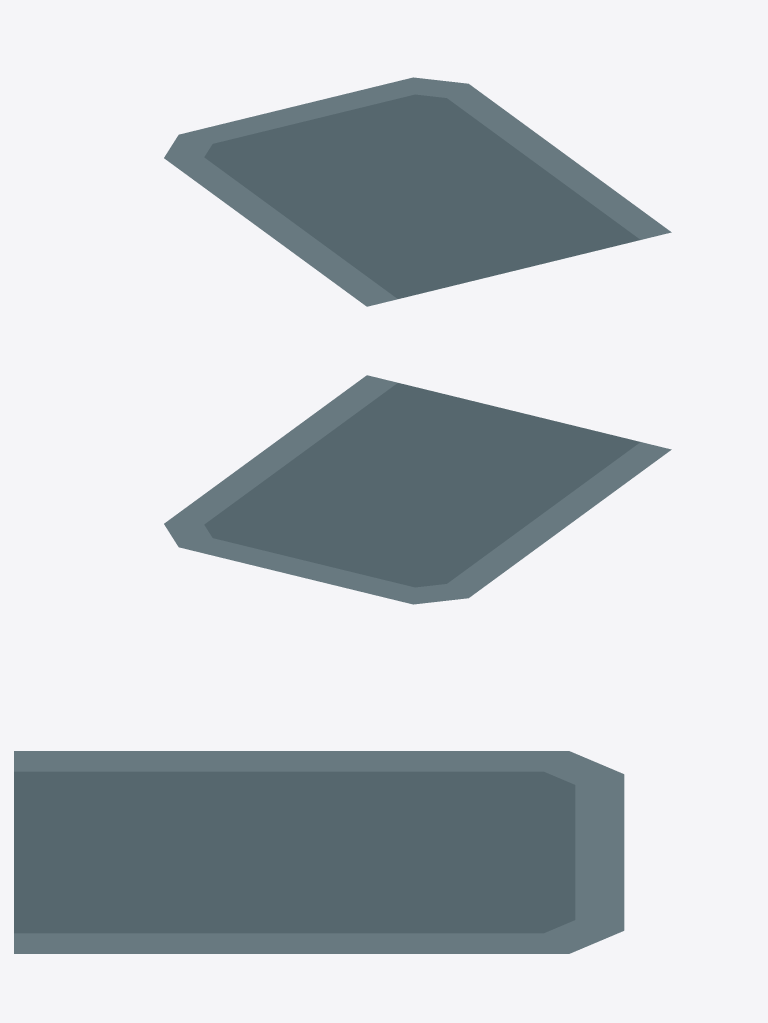
Rendered from Ceiling_type_C_005.glb.
3 views of the same model, one above another, from view 1: azimuth 30°, elevation 25°; view 2: azimuth 150°, elevation 25°; view 3: azimuth 270°, elevation 25° (orthographic). The views are drawn at different scales.
Visible parts, largest first — view 1: Ceiling_type_C_005; view 2: Ceiling_type_C_005; view 3: Ceiling_type_C_005.
Part boxes in pixels (box(x1,y1,x2,y2)): Ceiling_type_C_005: box(164, 77, 671, 306); Ceiling_type_C_005: box(164, 375, 671, 604); Ceiling_type_C_005: box(14, 751, 624, 953).
Bounding box in the file's own units: 4 × 0.0455 × 4.
2 materials, 2 textured.
